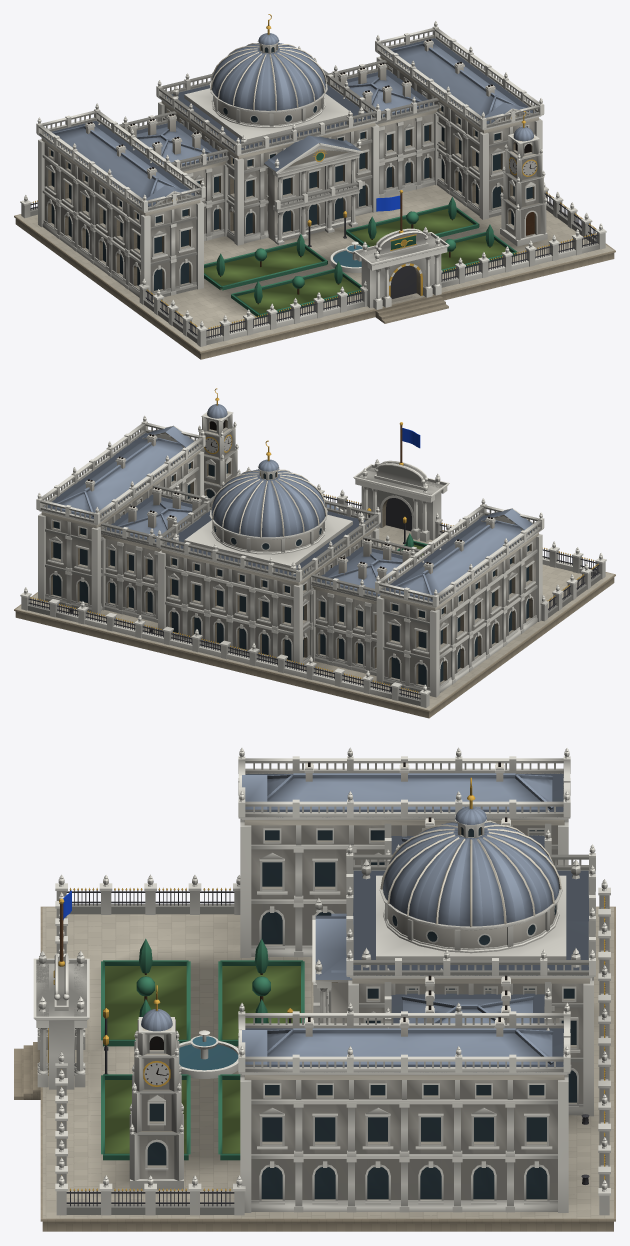
Rendered from lm_dolmabahce.glb.
The picture shows the model from 3 angles, top to bottom: view 1: azimuth 30°, elevation 25°; view 2: azimuth 150°, elevation 25°; view 3: azimuth 270°, elevation 25°; orthographic projection. The views are drawn at different scales.
Visible parts, largest first — view 1: lm_dolmabahce; view 2: lm_dolmabahce; view 3: lm_dolmabahce.
Part boxes in pixels (x1=…): lm_dolmabahce: x1=14, y1=14, x2=615, y2=359; lm_dolmabahce: x1=14, y1=388, x2=615, y2=718; lm_dolmabahce: x1=14, y1=747, x2=615, y2=1231.
Size of the model in its own units: 2.33 by 1.04 by 1.9.
Materials: 1 (1 with a texture image).
